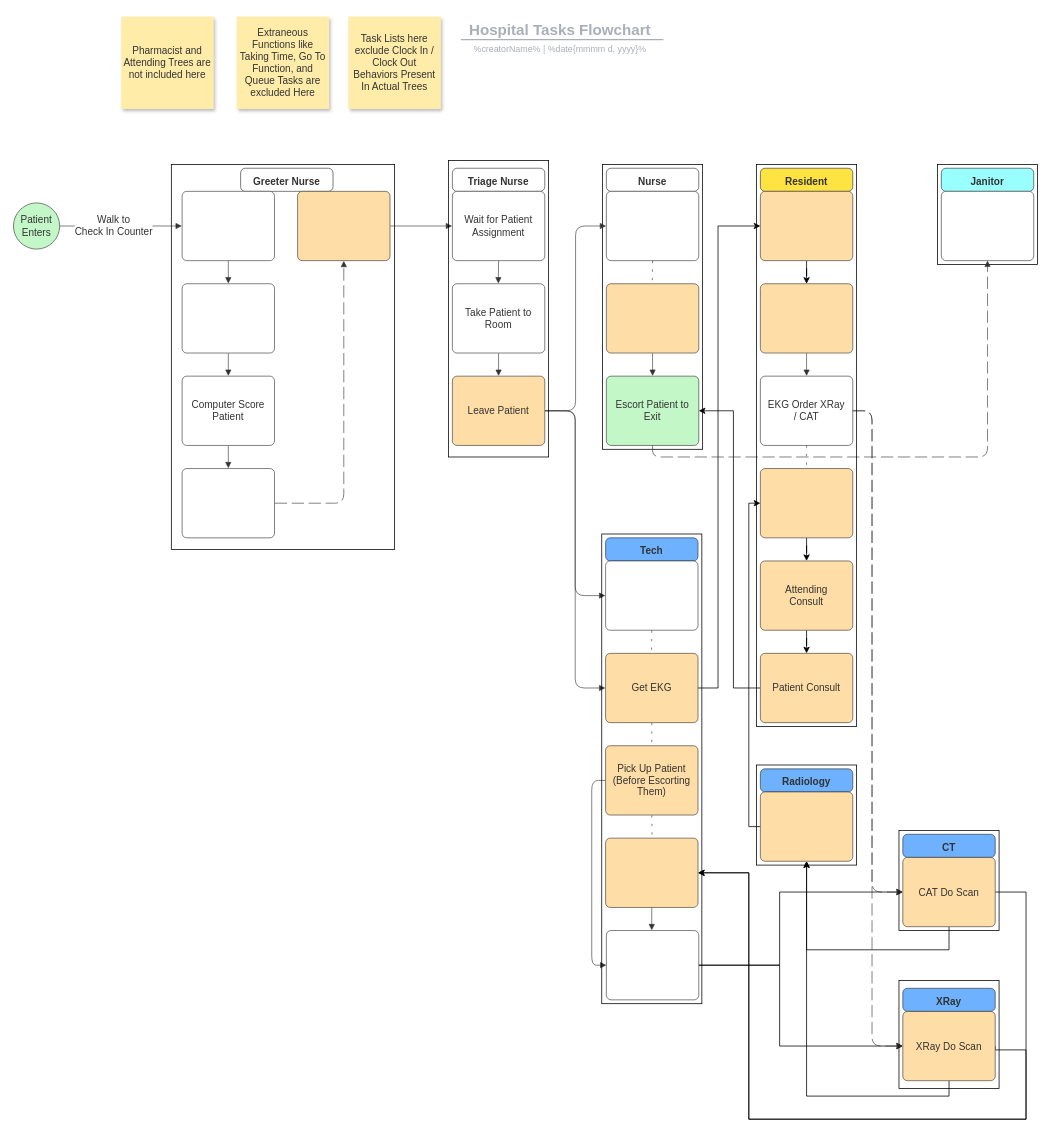
The diagram is 1051 pixels wide and 1139 high, and some of its shapes have lost their labels. Each missing label, with the centre of its shape:
Assign Patient to Triage Nurse: pixel 343 226
Computer Assign Patient Room: pixel 227 503
Computer Enter Patient: pixel 227 318
CT/XRay Pickup: pixel 651 872
Discharge Patient: pixel 652 318
EKG Consult: pixel 806 318
EKG Read: pixel 806 226
Escort Patient: pixel 652 965
Get Health Information: pixel 652 226
Get Vitals: pixel 651 595
Look for Arriving Patient: pixel 227 226
Radiology Review Scan: pixel 806 826
Resident Scan Read: pixel 806 503
Sanitize: pixel 987 226
